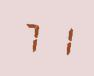one: (46, 20, 72, 58)
seven: (19, 17, 45, 55)
